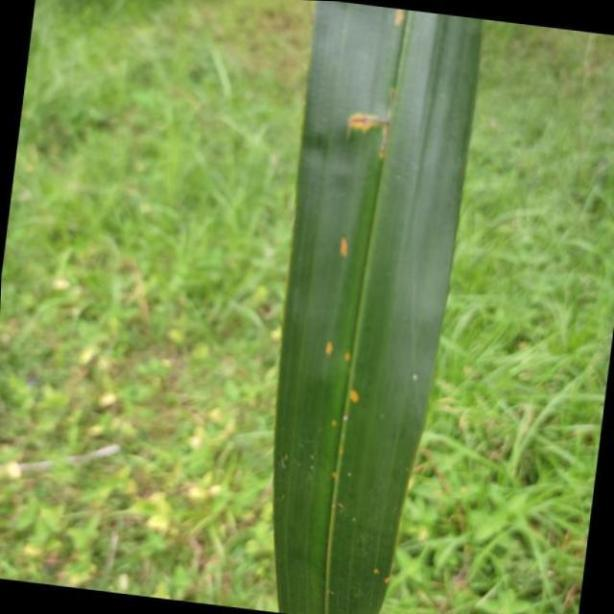Boron: (277, 0, 484, 614)
